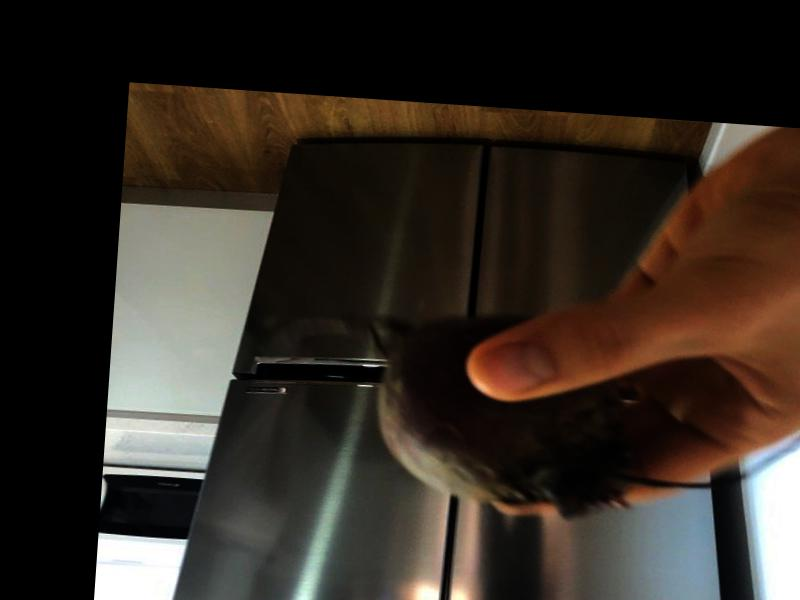Beet: (327, 305, 800, 535)
